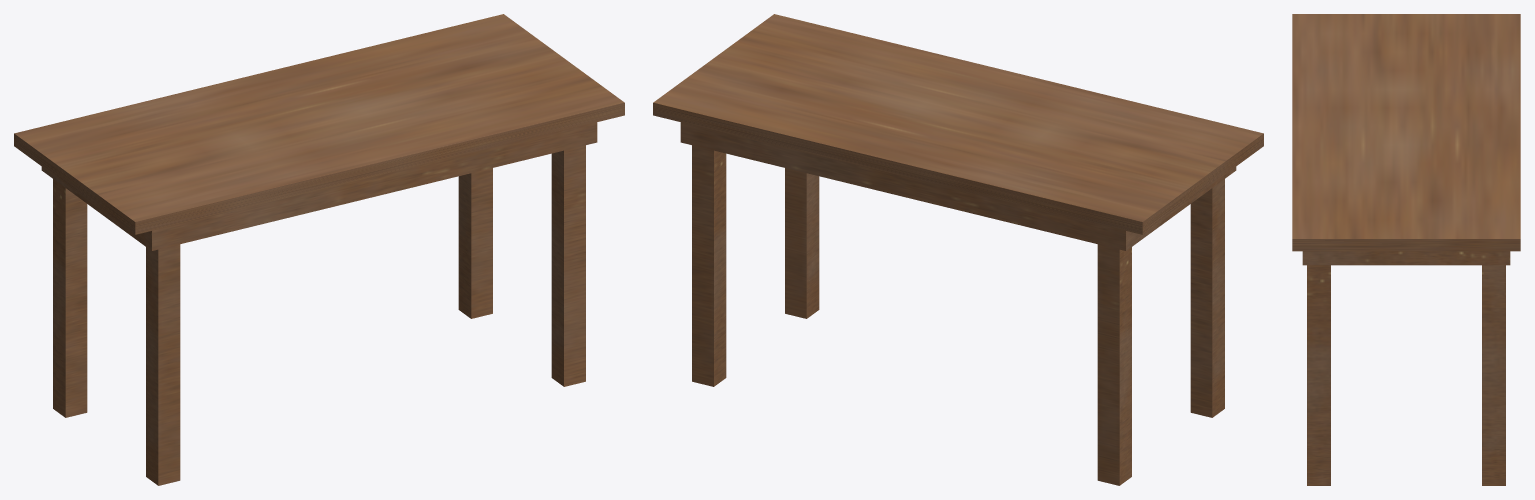
The model's file is tavolo.glb.
3 renders of one model, left to right at view 1: azimuth 30°, elevation 25°; view 2: azimuth 150°, elevation 25°; view 3: azimuth 270°, elevation 25°, orthographic. The views are drawn at different scales.
Visible parts, largest first — view 1: Cube; view 2: Cube; view 3: Cube.
Boxes of the visible parts, x1,y1,x2,y2 form: Cube: [14, 14, 624, 485]; Cube: [653, 14, 1263, 485]; Cube: [1292, 14, 1520, 485].
Bounding box in the file's own units: 1.4 × 0.7574 × 0.6.
Materials: 1 (1 with a texture image).
